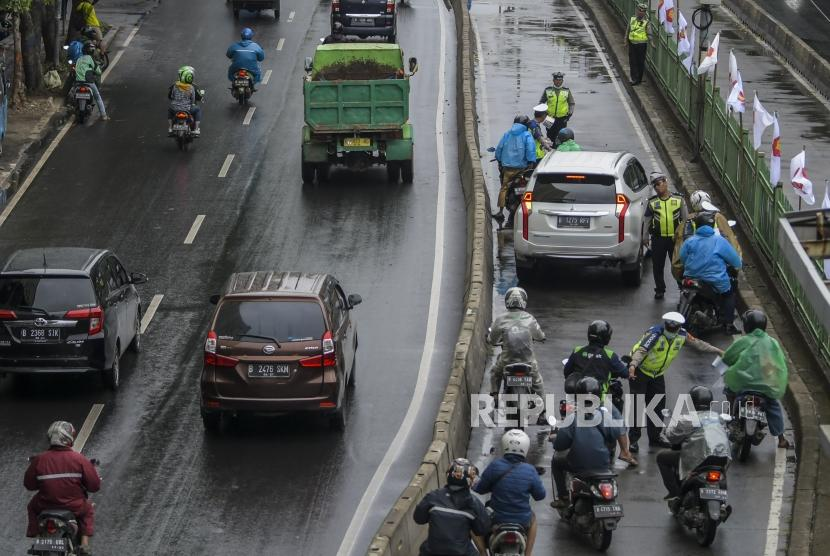car: (202, 271, 360, 441), (1, 246, 139, 399), (510, 150, 652, 290), (516, 145, 654, 284), (306, 43, 415, 184), (328, 2, 399, 45)
motorbike: (550, 380, 622, 553), (717, 314, 791, 464), (663, 389, 730, 549), (675, 187, 746, 335), (565, 319, 631, 452), (29, 422, 93, 556), (478, 429, 544, 556), (487, 289, 548, 425), (418, 458, 486, 556), (491, 121, 538, 225), (69, 43, 110, 126), (224, 31, 263, 116), (169, 63, 205, 150)
